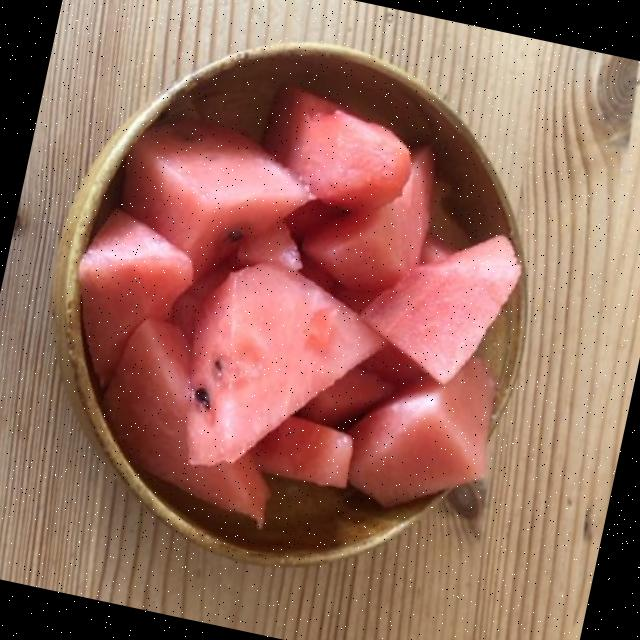watermelon-fresh: (83, 97, 514, 518)
